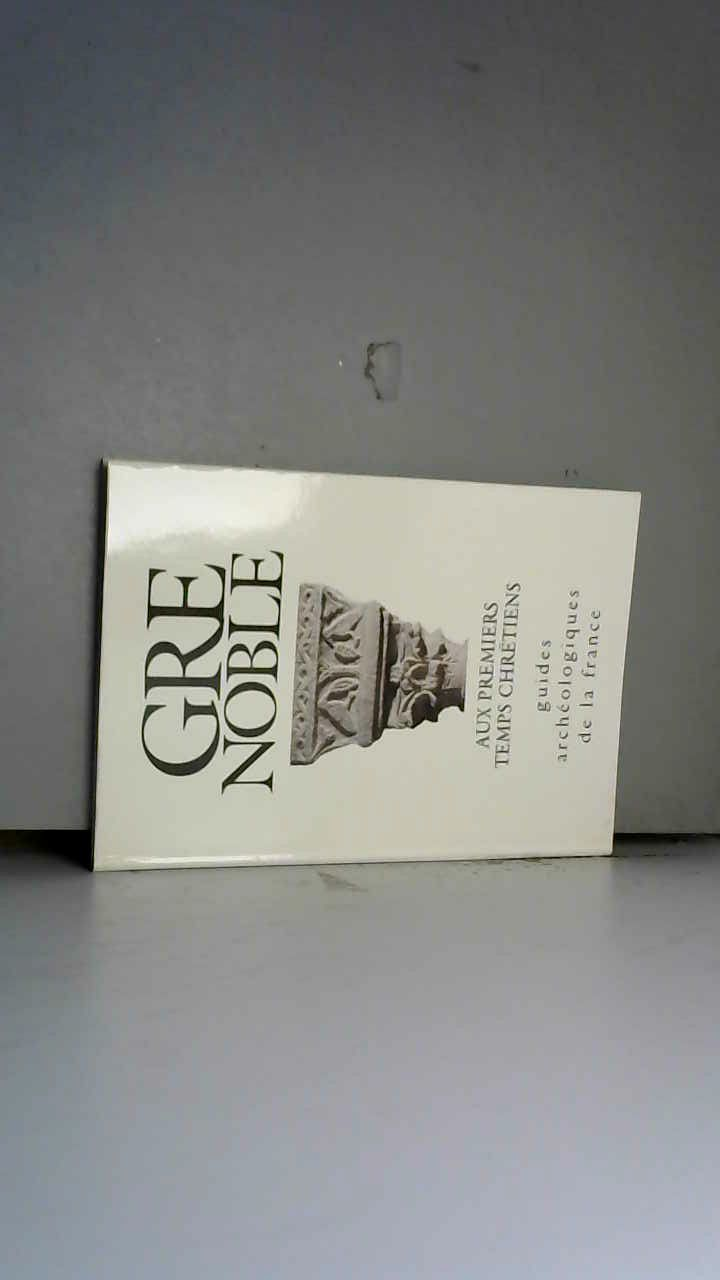book: (70, 437, 655, 889)
